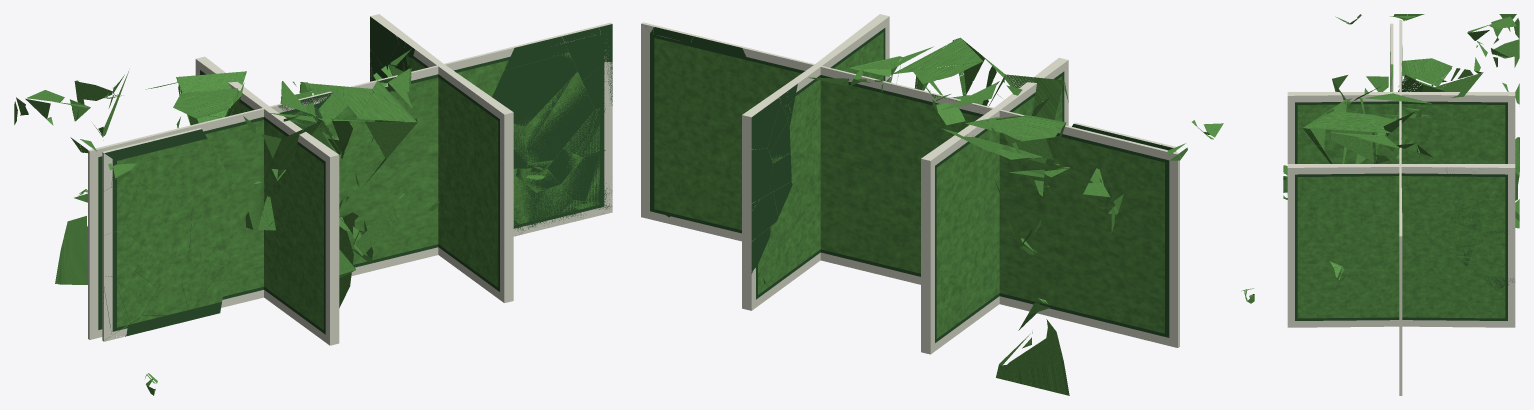
File: Cubicle.fbx
3 views of the same model, side by side, from view 1: azimuth 30°, elevation 25°; view 2: azimuth 150°, elevation 25°; view 3: azimuth 270°, elevation 25° (orthographic). The views are drawn at different scales.
Parts seen in each view (by area): view 1: Cubicles, Cubicles_cell.037_cell.007, Cubicles_cell.037_cell.002, Cubicles_cell.037_cell.003, Cubicles_cell.037_cell, Cubicles_cell.037_cell.008, Cubicles_cell.035_cell.004, Cubicles_cell.007_cell, Cubicles_cell.035_cell.003, Cubicles_cell_cell.008, Cubicles_cell.011_cell.004, Cubicles_cell.058_cell (+31 smaller); view 2: Cubicles, Cubicles_cell.007_cell, Cubicles_cell.037_cell, Cubicles_cell.011_cell.004, Cubicles_cell.035_cell.004, Cubicles_cell.056_cell.005, Cubicles_cell_cell, Cubicles_cell.006_cell.006, Cubicles_cell.064_cell, Cubicles_cell_cell.003, Cubicles_cell.056_cell.007, Cubicles_cell.046_cell.001 (+13 smaller); view 3: Cubicles, Cubicles_cell.011_cell.004, Cubicles_cell.035_cell.004, Cubicles_cell.035_cell.005, Cubicles_cell.011_cell, Cubicles_cell.035_cell.003, Cubicles_cell.065_cell.007, Cubicles_cell.021_cell.004, Cubicles_cell.065_cell.006, Cubicles_cell.007_cell, Cubicles_cell.006_cell.005, Cubicles_cell.057_cell.006.
Part boxes in pixels (<box>): Cubicles: <box>88,16,612,345</box>; Cubicles_cell.037_cell.007: <box>139,147,233,212</box>; Cubicles_cell.037_cell.002: <box>122,183,191,260</box>; Cubicles_cell.037_cell.003: <box>492,53,577,126</box>; Cubicles_cell.037_cell: <box>526,78,594,163</box>; Cubicles_cell.037_cell.008: <box>189,183,240,254</box>; Cubicles_cell.035_cell.004: <box>338,92,417,186</box>; Cubicles_cell.007_cell: <box>55,189,87,284</box>; Cubicles_cell.035_cell.003: <box>308,83,373,153</box>; Cubicles_cell_cell.008: <box>102,229,153,276</box>; Cubicles_cell.011_cell.004: <box>173,91,242,145</box>; Cubicles_cell.058_cell: <box>560,26,605,80</box>; Cubicles: <box>641,14,1179,354</box>; Cubicles_cell.007_cell: <box>996,298,1069,395</box>; Cubicles_cell.037_cell: <box>660,72,730,167</box>; Cubicles_cell.011_cell.004: <box>986,115,1066,163</box>; Cubicles_cell.035_cell.004: <box>915,37,988,105</box>; Cubicles_cell.056_cell.005: <box>742,144,772,203</box>; Cubicles_cell_cell: <box>652,156,695,211</box>; Cubicles_cell.006_cell.006: <box>1003,74,1068,119</box>; Cubicles_cell.064_cell: <box>742,192,778,247</box>; Cubicles_cell_cell.003: <box>641,108,692,158</box>; Cubicles_cell.056_cell.007: <box>742,98,780,149</box>; Cubicles_cell.046_cell.001: <box>681,189,727,226</box>; Cubicles: <box>1287,20,1515,395</box>; Cubicles_cell.011_cell.004: <box>1398,58,1452,91</box>; Cubicles_cell.035_cell.004: <box>1303,110,1376,163</box>; Cubicles_cell.035_cell.005: <box>1322,127,1394,163</box>; Cubicles_cell.011_cell: <box>1429,68,1482,97</box>; Cubicles_cell.035_cell.003: <box>1330,98,1416,148</box>; Cubicles_cell.065_cell.007: <box>1491,39,1519,104</box>; Cubicles_cell.021_cell.004: <box>1363,93,1431,117</box>; Cubicles_cell.065_cell.006: <box>1467,16,1516,43</box>; Cubicles_cell.007_cell: <box>1515,137,1519,228</box>; Cubicles_cell.006_cell.005: <box>1364,76,1388,94</box>; Cubicles_cell.057_cell.006: <box>1374,135,1414,148</box>.
Bounding box in the file's own units: 586 × 210 × 268.
